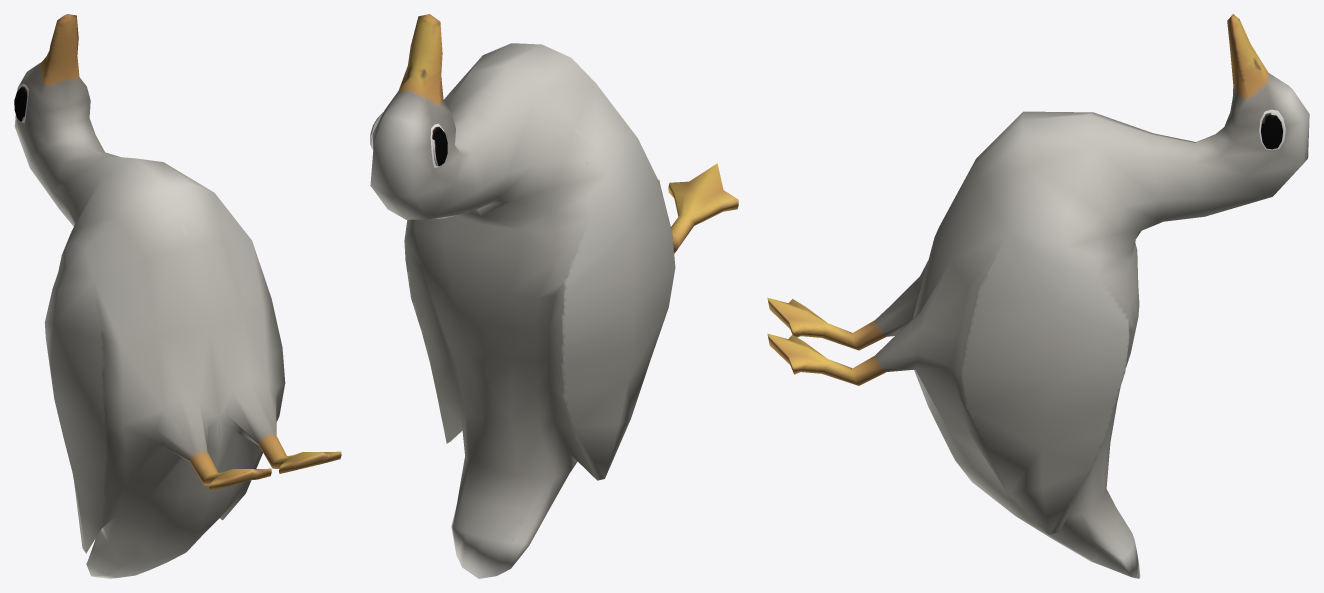
File: kachna.obj
3 views of the same model, side by side, from view 1: azimuth 30°, elevation 25°; view 2: azimuth 150°, elevation 25°; view 3: azimuth 270°, elevation 25° (orthographic). The views are drawn at different scales.
Visible parts, largest first — view 1: kachna_Mesh.145; view 2: kachna_Mesh.145; view 3: kachna_Mesh.145.
Boxes of the visible parts, x1,y1,x2,y2 form: kachna_Mesh.145: [14, 14, 341, 578]; kachna_Mesh.145: [370, 14, 738, 578]; kachna_Mesh.145: [767, 14, 1309, 578].
Size of the model in its own units: 28.2 by 72.98 by 63.75.
1 material, 1 textured.
